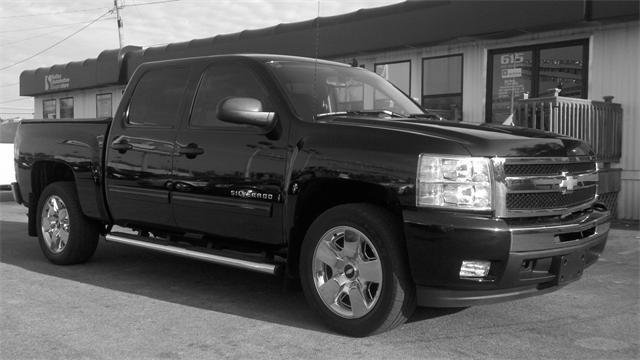car: (11, 50, 616, 339)
